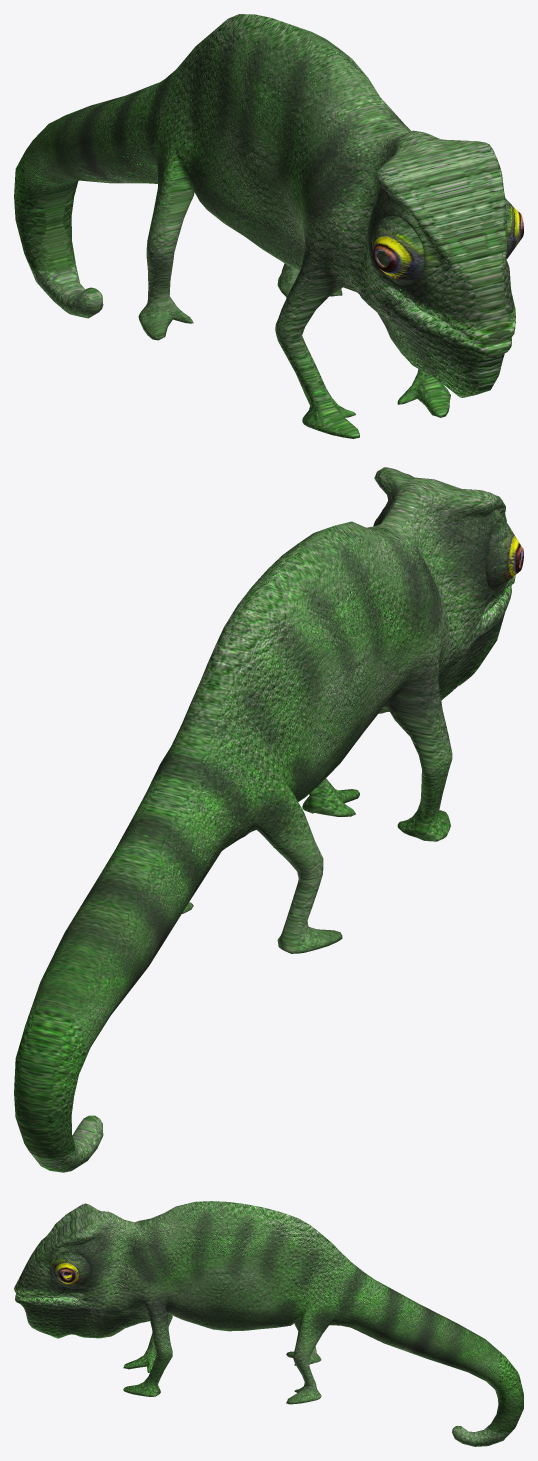
The model's file is Chamilion.FBX.
The picture shows the model from 3 angles, top to bottom: view 1: azimuth 30°, elevation 25°; view 2: azimuth 150°, elevation 25°; view 3: azimuth 270°, elevation 25°; orthographic projection. The views are drawn at different scales.
Visible parts, largest first — view 1: Chamilion; view 2: Chamilion; view 3: Chamilion.
Part boxes in pixels (left/top/right/bottom): Chamilion: left=14, top=14, right=523, bottom=438; Chamilion: left=14, top=467, right=523, bottom=1172; Chamilion: left=14, top=1201, right=523, bottom=1446.
Bounding box in the file's own units: 13.94 × 31.73 × 59.71.
